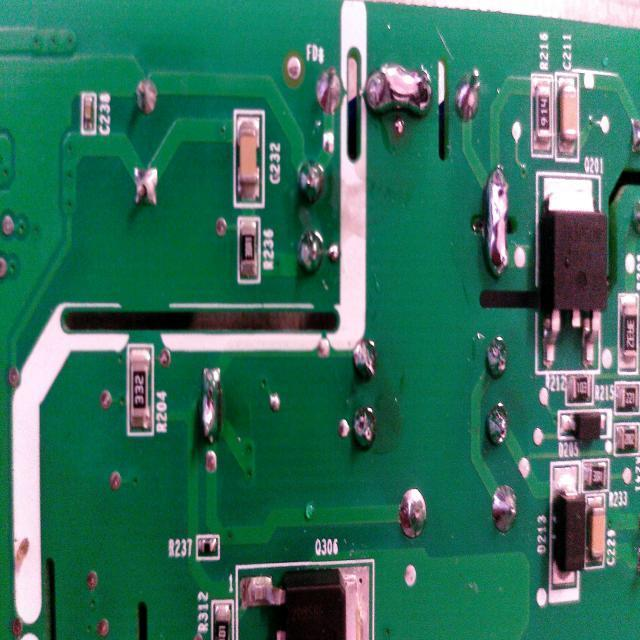Soldering shorted: (362, 56, 437, 132), (196, 358, 230, 448)
